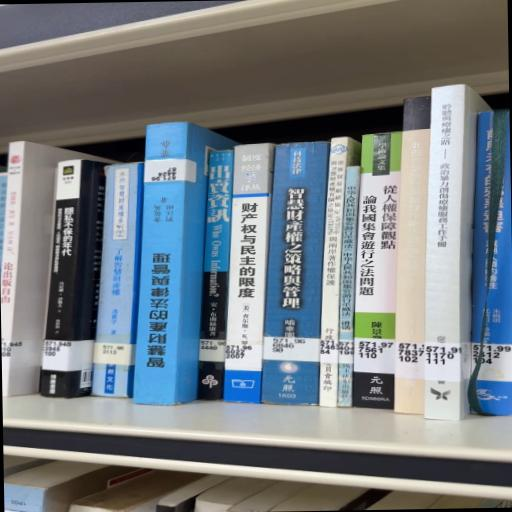reverse: (134, 122, 236, 405)
